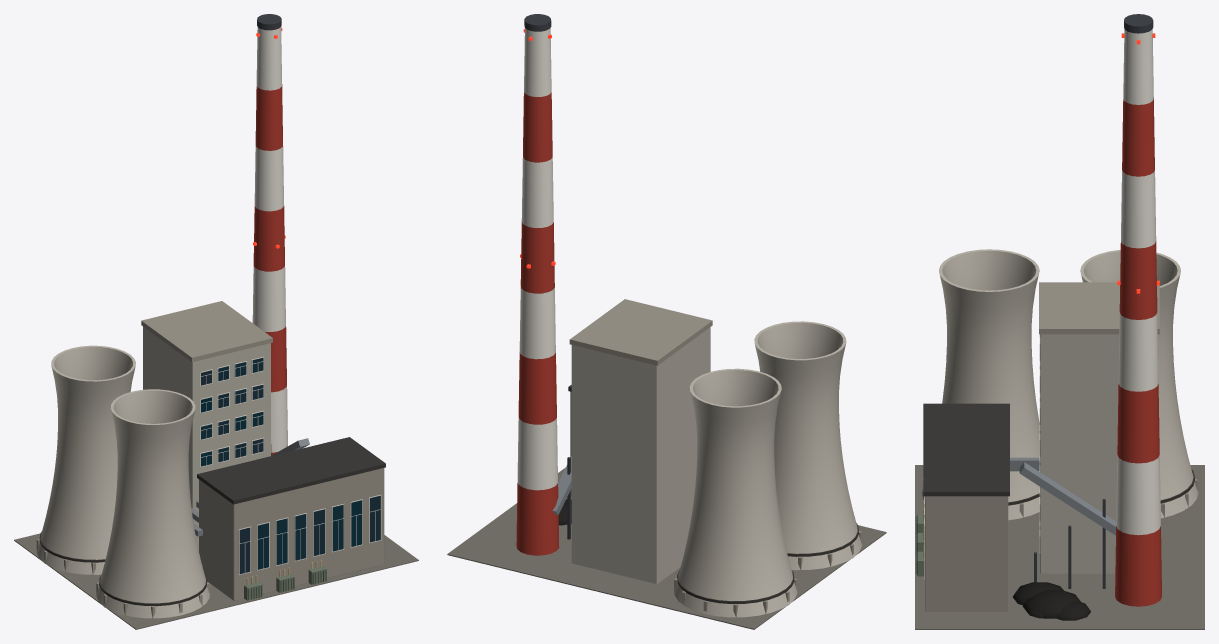
Rendered from tpp.glb.
The picture shows the model from 3 angles, left to right: view 1: azimuth 30°, elevation 25°; view 2: azimuth 150°, elevation 25°; view 3: azimuth 270°, elevation 25°; orthographic projection. The views are drawn at different scales.
Parts seen in each view (by area): view 1: tpp; view 2: tpp; view 3: tpp.
Boxes of the visible parts, x1,y1,x2,y2 form: tpp: [14, 14, 418, 629]; tpp: [447, 14, 886, 629]; tpp: [915, 14, 1204, 629].
Size of the model in its own units: 39.65 by 66.34 by 29.5.
